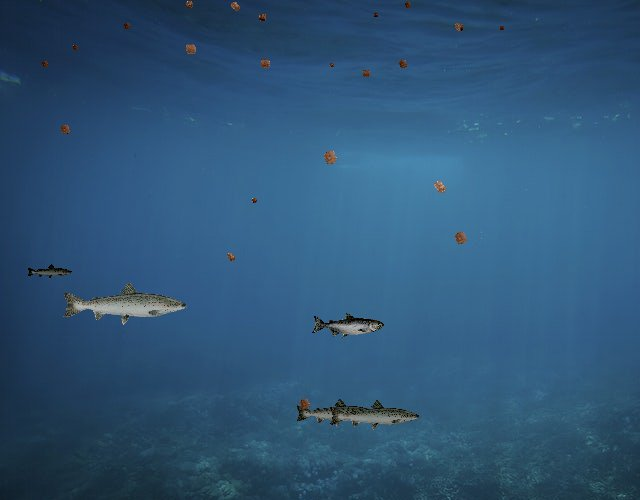Fish: (60, 280, 189, 326), (328, 399, 422, 432), (294, 397, 380, 428), (311, 312, 384, 338), (26, 263, 73, 280)
Pellet: (426, 174, 453, 201), (448, 225, 473, 251), (179, 38, 202, 61), (294, 393, 316, 415), (222, 248, 240, 266), (120, 19, 134, 33), (248, 195, 260, 207)
